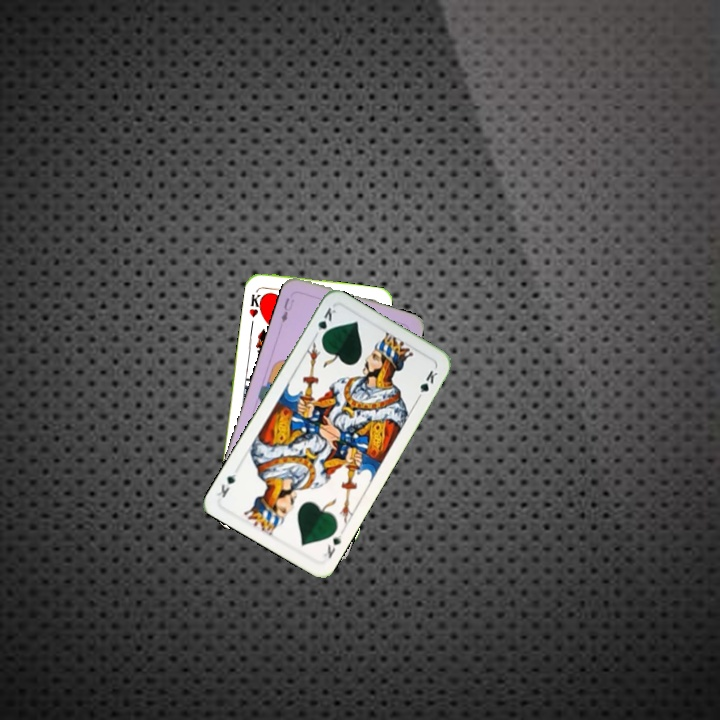EU: (277, 294, 297, 325)
GK: (314, 303, 340, 342), (319, 529, 346, 561)
HK: (245, 285, 267, 320)
